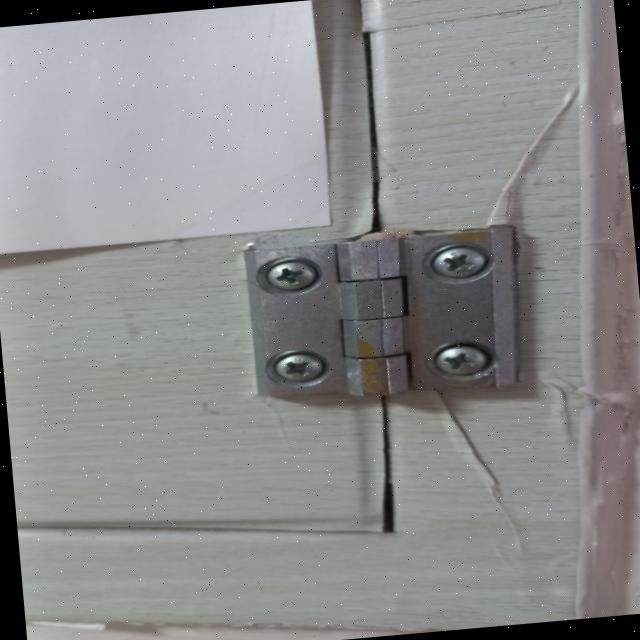Phillips: (418, 339, 502, 386), (264, 349, 326, 391), (424, 245, 486, 285), (264, 257, 324, 294)
